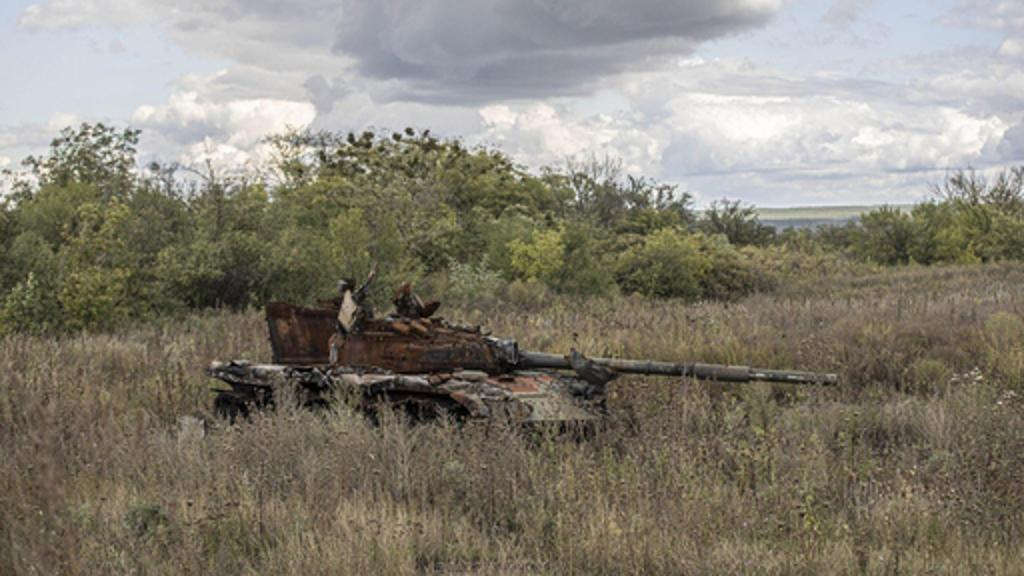TANK: (200, 274, 838, 464)
